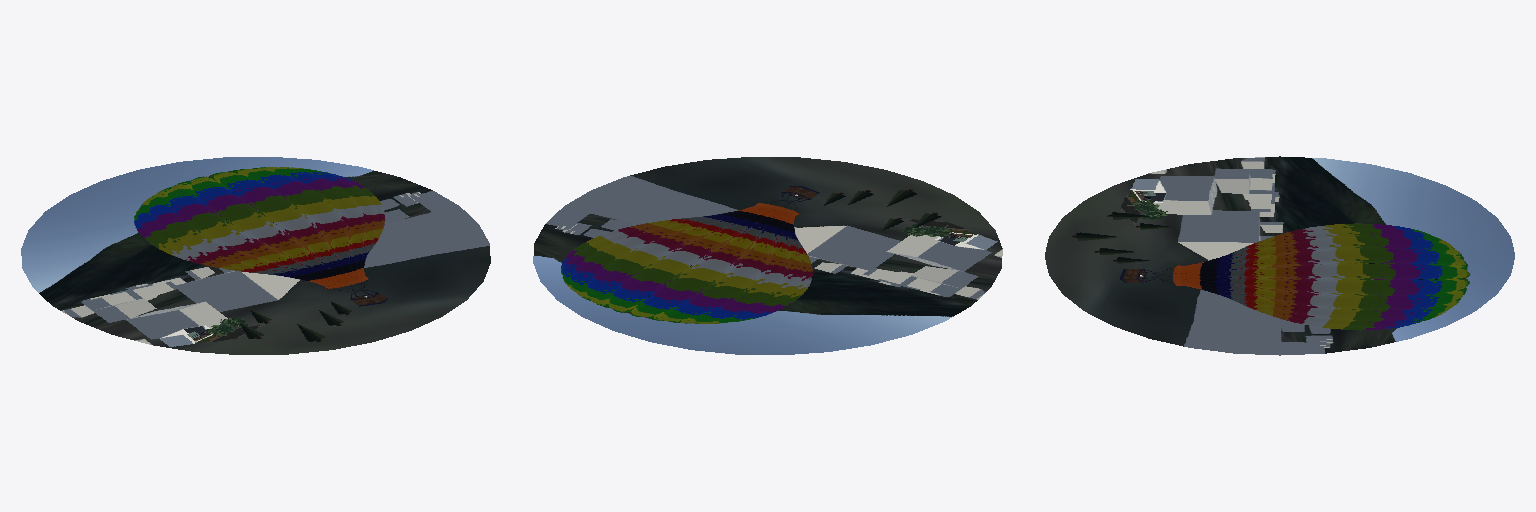
3 views of the same model, side by side, from view 1: azimuth 30°, elevation 25°; view 2: azimuth 150°, elevation 25°; view 3: azimuth 270°, elevation 25° (orthographic).
Visible parts, largest first — view 1: balloon_button_pic; view 2: balloon_button_pic; view 3: balloon_button_pic.
Boxes of the visible parts, <box> form: balloon_button_pic: <box>21,157,490,354</box>; balloon_button_pic: <box>533,157,1002,354</box>; balloon_button_pic: <box>1045,156,1514,355</box>.
Bounding box in the file's own units: 0.0165 × 0 × 0.0165.
1 materials, 1 textured.